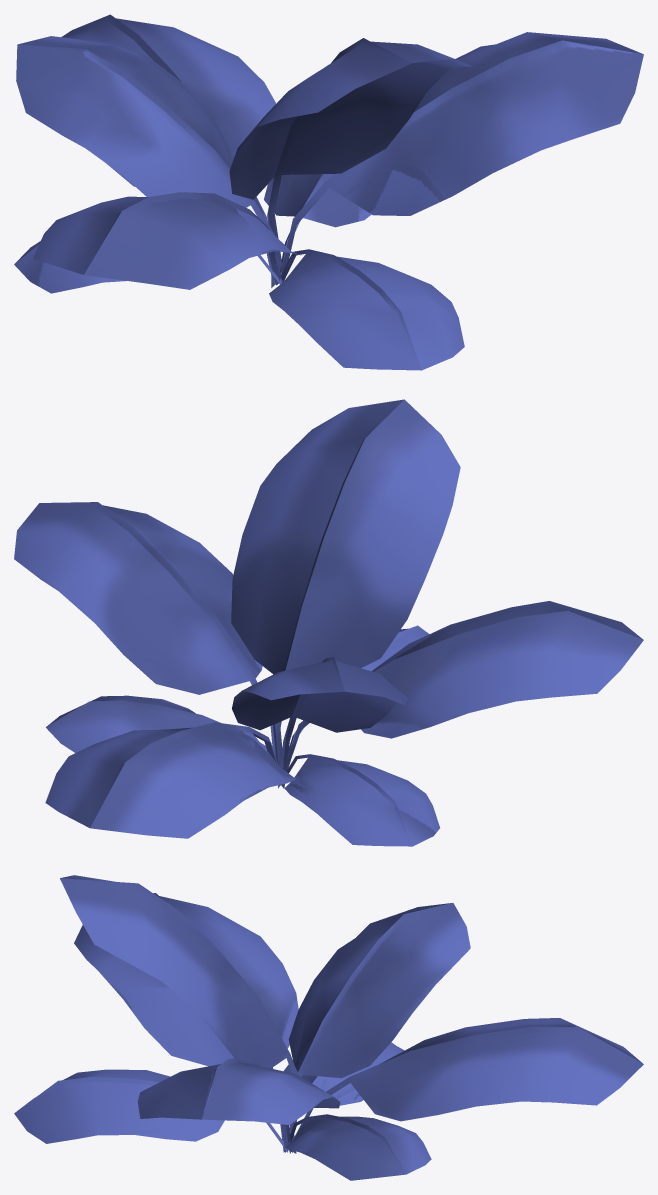
Rendered from Bush3.fbx.
The picture shows the model from 3 angles, top to bottom: view 1: azimuth 30°, elevation 25°; view 2: azimuth 150°, elevation 25°; view 3: azimuth 270°, elevation 25°; orthographic projection. The views are drawn at different scales.
Parts seen in each view (by area): view 1: Plane.005; view 2: Plane.005; view 3: Plane.005.
Part boxes in pixels (<box>): Plane.005: <box>14,14,643,370</box>; Plane.005: <box>14,399,643,846</box>; Plane.005: <box>14,875,643,1180</box>.
Bounding box in the file's own units: 2.13 × 1.07 × 2.21.
